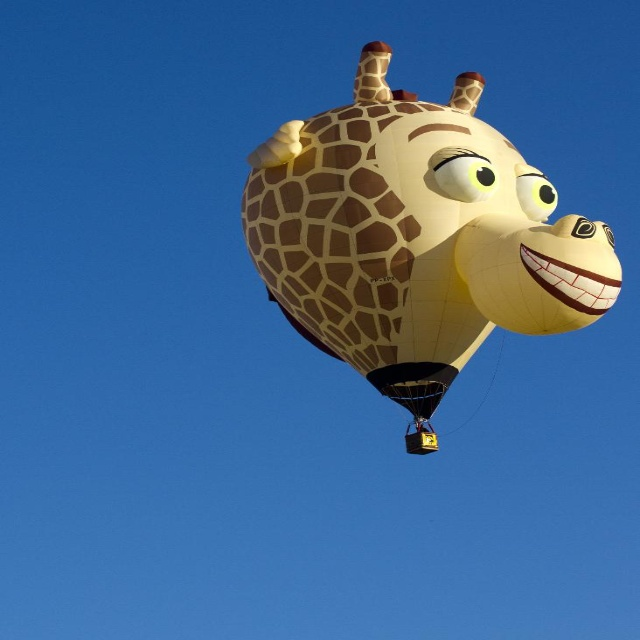Giraffe: (245, 40, 622, 427)
